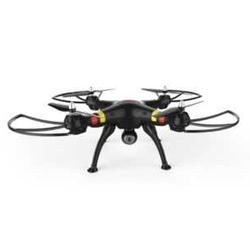drone: (5, 83, 241, 176)
